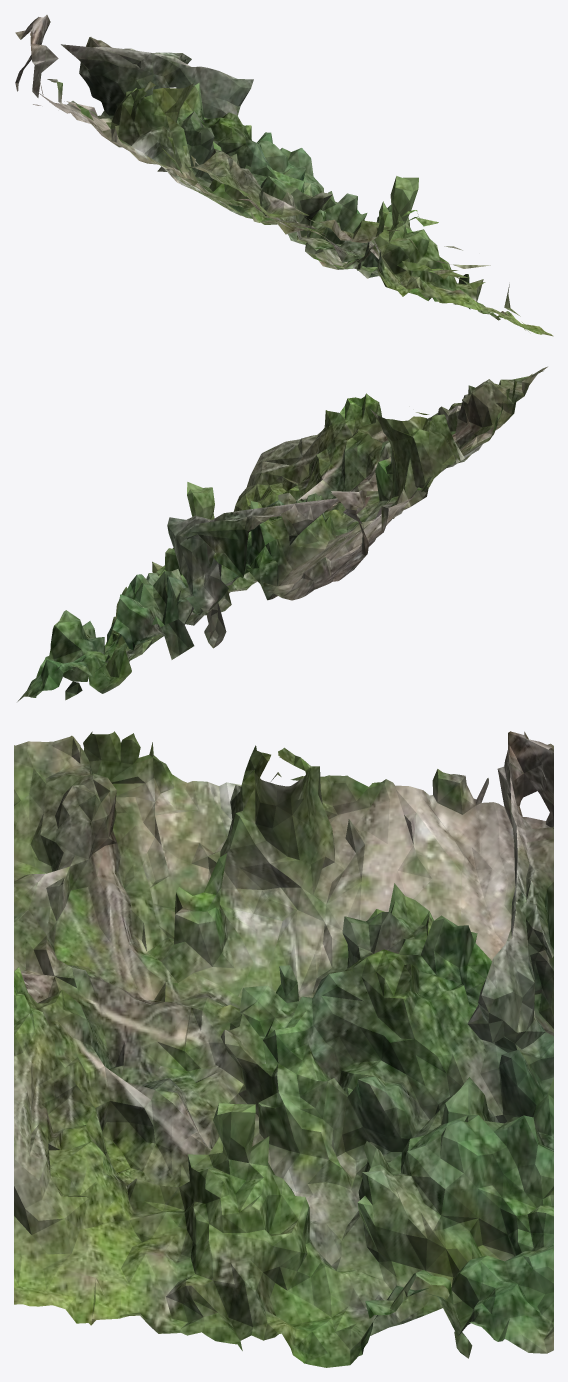
3 views of the same model, one above another, from view 1: azimuth 30°, elevation 25°; view 2: azimuth 150°, elevation 25°; view 3: azimuth 270°, elevation 25° (orthographic). The views are drawn at different scales.
Bounding box in the file's own units: 11.8 × 9.96 × 11.8.
5 materials, 5 textured.
